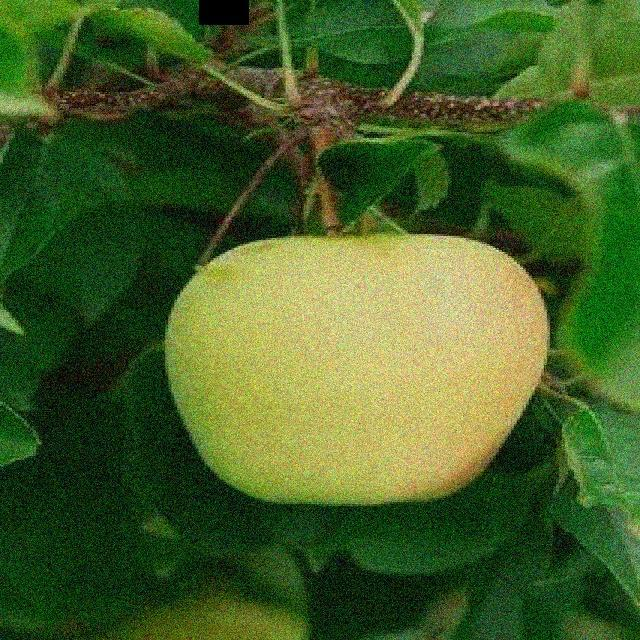green apple: (158, 230, 555, 507)
